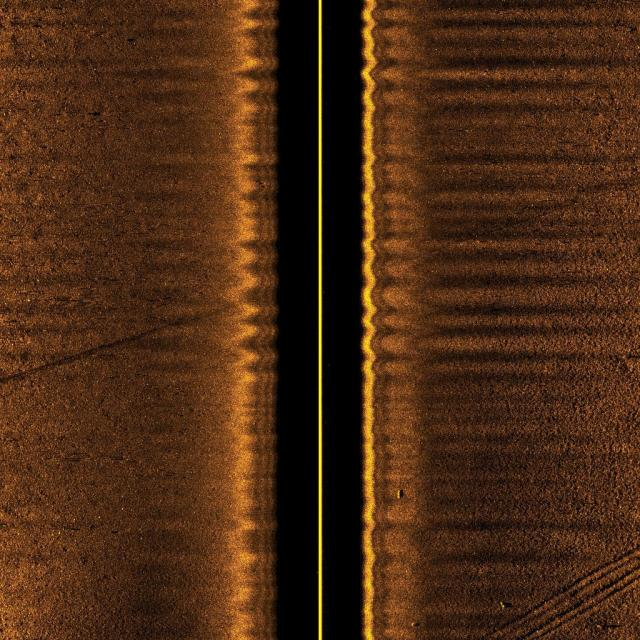mine: (498, 599, 514, 610), (395, 487, 405, 502)
